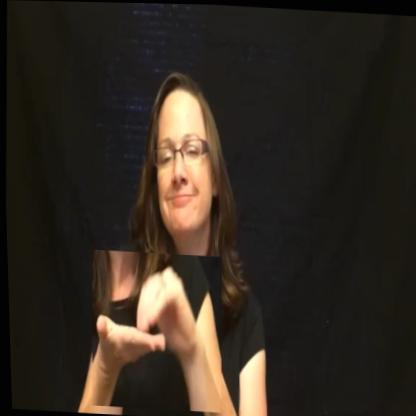ExcuseMe: (86, 249, 225, 412)
